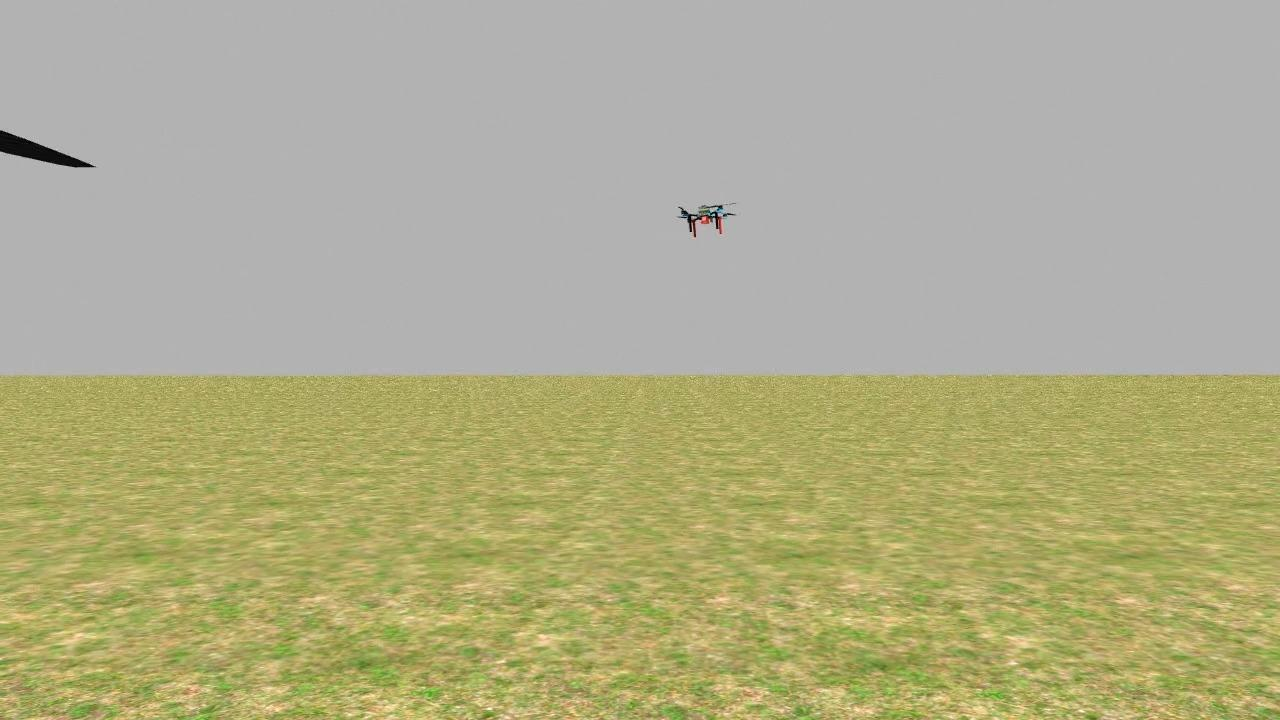UAV: (653, 184, 757, 252)
